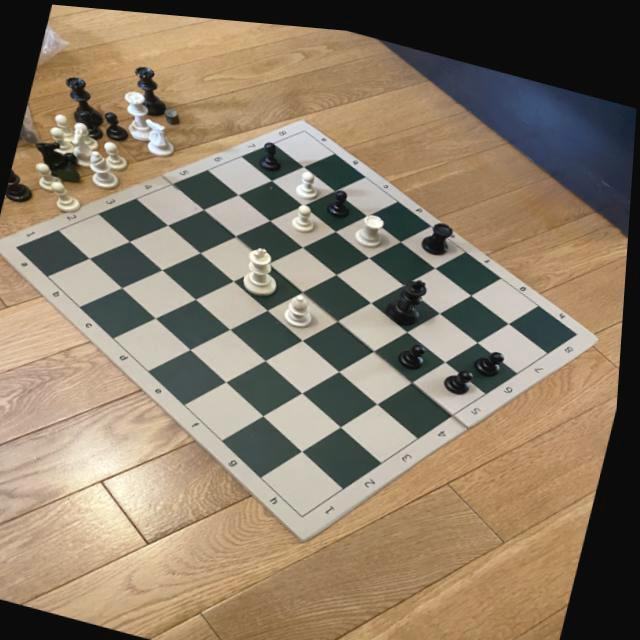chess-table-corners: (570, 315, 588, 328), (300, 502, 316, 516), (12, 241, 29, 252), (300, 121, 310, 129)
